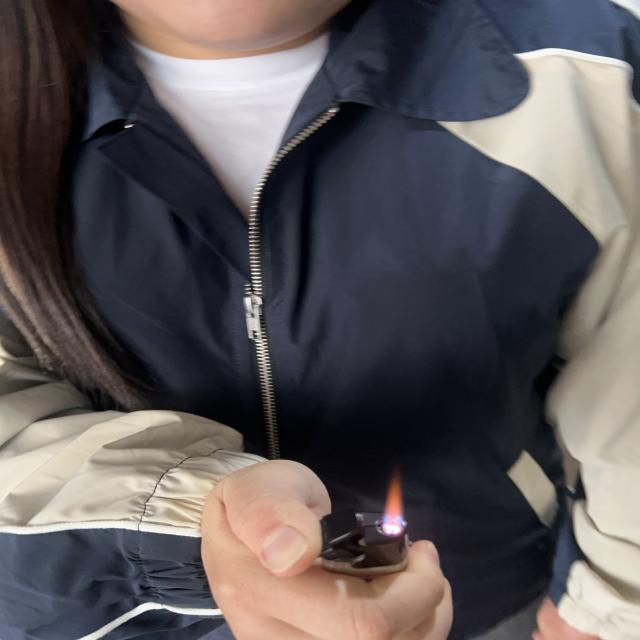fire: (384, 472, 405, 538)
